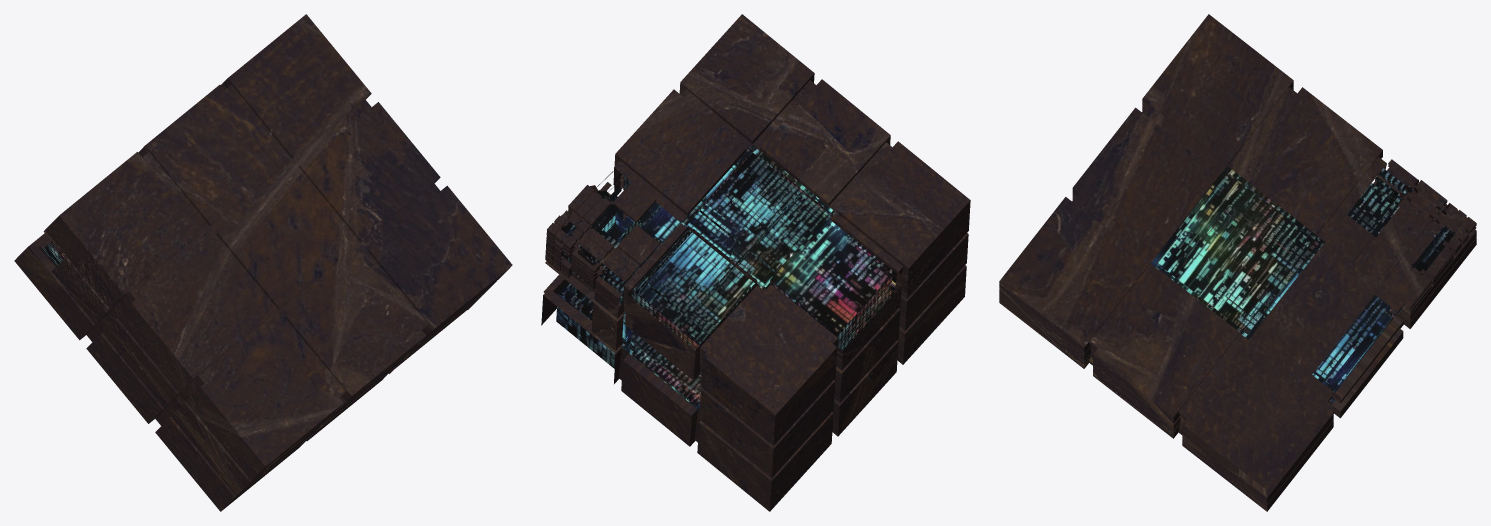
Rendered from cube_plant.gltf.
3 views of the same model, side by side, from view 1: azimuth 30°, elevation 25°; view 2: azimuth 150°, elevation 25°; view 3: azimuth 270°, elevation 25° (orthographic). The views are drawn at different scales.
Visible parts, largest first — view 1: Cube; view 2: Cube, Cube_inside; view 3: Cube, Cube_inside.
Boxes of the visible parts, left/top/right/bottom form: Cube: left=14, top=14, right=512, bottom=511; Cube: left=541, top=14, right=970, bottom=511; Cube_inside: left=556, top=144, right=896, bottom=410; Cube: left=999, top=14, right=1476, bottom=511; Cube_inside: left=1151, top=166, right=1455, bottom=404.
Size of the model in its own units: 3.1 by 3.42 by 2.81.
